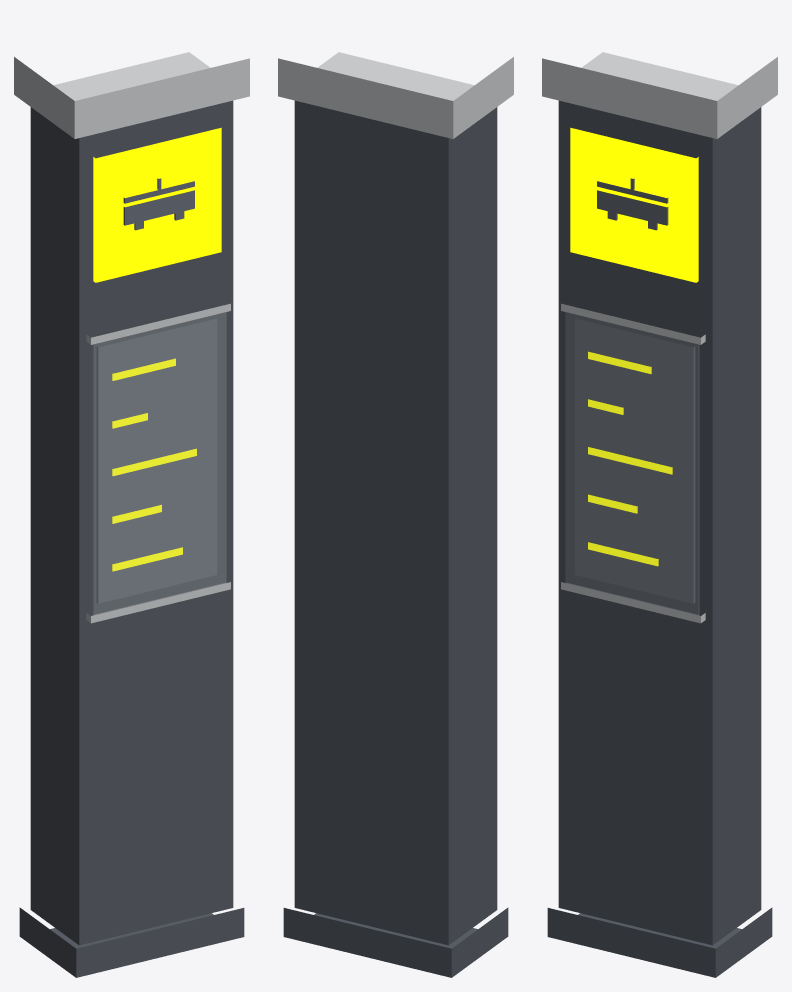
File: ext_stop_totem_02.glb
The picture shows the model from 3 angles, left to right: view 1: azimuth 30°, elevation 25°; view 2: azimuth 150°, elevation 25°; view 3: azimuth 330°, elevation 25°; orthographic projection.
Parts seen in each view (by area): view 1: Body, Timetable_Glass, Timetable_Plate, Roundel_Plate, Cap, Plinth, Timetable_Bars, Bezel, Tram_Glyph; view 2: Body, Cap, Plinth; view 3: Body, Timetable_Glass, Timetable_Plate, Roundel_Plate, Cap, Plinth, Timetable_Bars, Bezel, Tram_Glyph.
Boxes of the visible parts, x1=… form: Body: x1=30, y1=100, x2=233, y2=945; Timetable_Glass: x1=92, y1=312, x2=226, y2=615; Timetable_Plate: x1=96, y1=318, x2=217, y2=603; Roundel_Plate: x1=93, y1=127, x2=221, y2=282; Cap: x1=14, y1=52, x2=249, y2=138; Plinth: x1=19, y1=907, x2=244, y2=977; Timetable_Bars: x1=112, y1=358, x2=196, y2=571; Bezel: x1=86, y1=303, x2=230, y2=623; Tram_Glyph: x1=123, y1=178, x2=194, y2=230; Body: x1=294, y1=100, x2=497, y2=945; Cap: x1=278, y1=52, x2=513, y2=138; Plinth: x1=283, y1=907, x2=508, y2=977; Body: x1=558, y1=100, x2=761, y2=945; Timetable_Glass: x1=565, y1=312, x2=699, y2=615; Timetable_Plate: x1=574, y1=318, x2=695, y2=603; Roundel_Plate: x1=570, y1=127, x2=698, y2=282; Cap: x1=542, y1=52, x2=777, y2=138; Plinth: x1=547, y1=907, x2=772, y2=977; Timetable_Bars: x1=588, y1=351, x2=672, y2=566; Bezel: x1=561, y1=303, x2=705, y2=623; Tram_Glyph: x1=597, y1=178, x2=668, y2=230.
Size of the model in its own units: 0.5 by 2.4 by 0.3.
